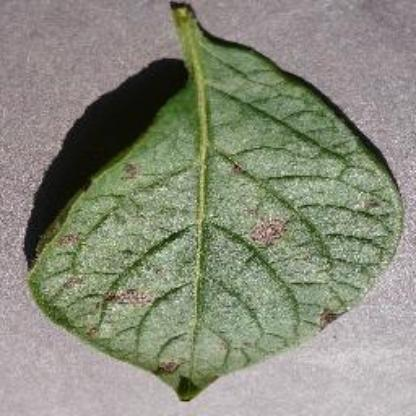Early-Blight: (28, 6, 404, 402)
